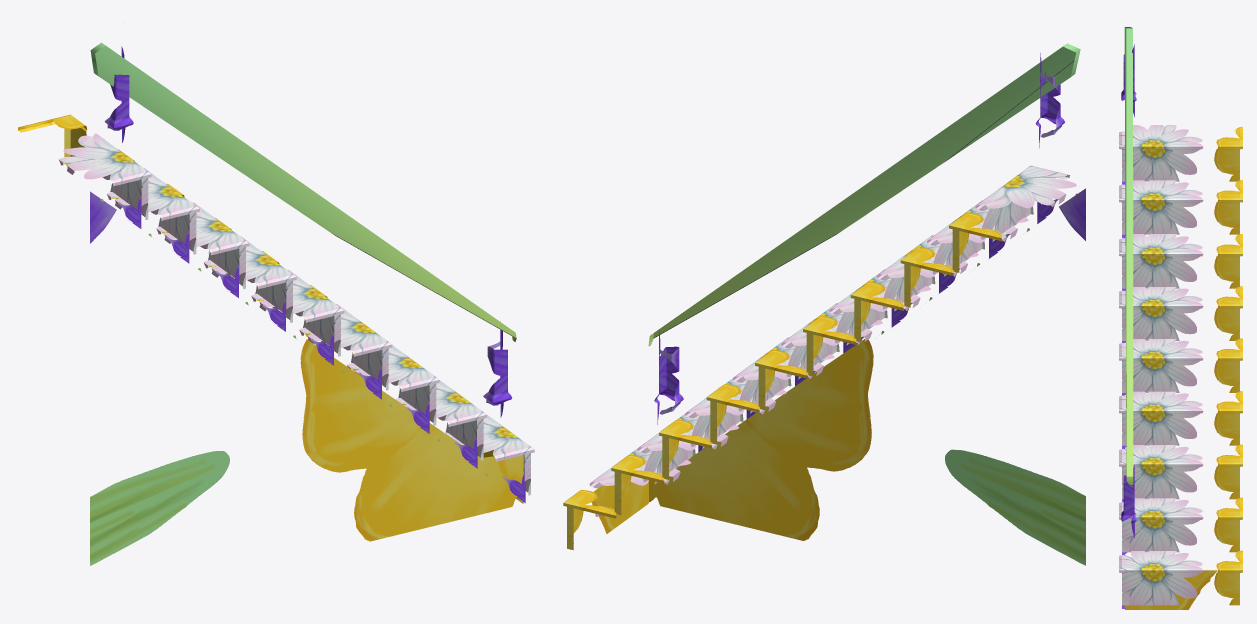
The model's file is stairs.fbx.
3 renders of one model, left to right at view 1: azimuth 30°, elevation 25°; view 2: azimuth 150°, elevation 25°; view 3: azimuth 270°, elevation 25°, orthographic. The views are drawn at different scales.
Visible parts, largest first — view 1: Stairs; view 2: Stairs; view 3: Stairs.
Part boxes in pixels (bbox=[...]): Stairs: bbox=[17, 22, 534, 565]; Stairs: bbox=[563, 43, 1085, 565]; Stairs: bbox=[1119, 27, 1242, 609].
Bounding box in the file's own units: 354 × 446 × 112.
